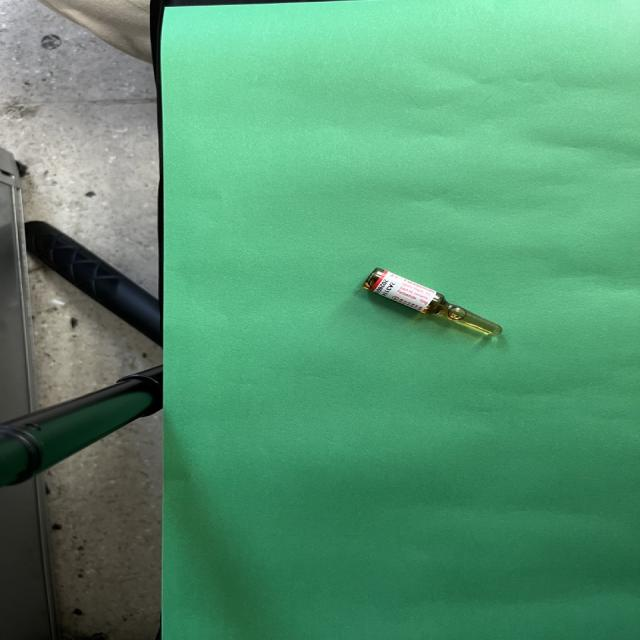Ampoules: (363, 268, 501, 336)
